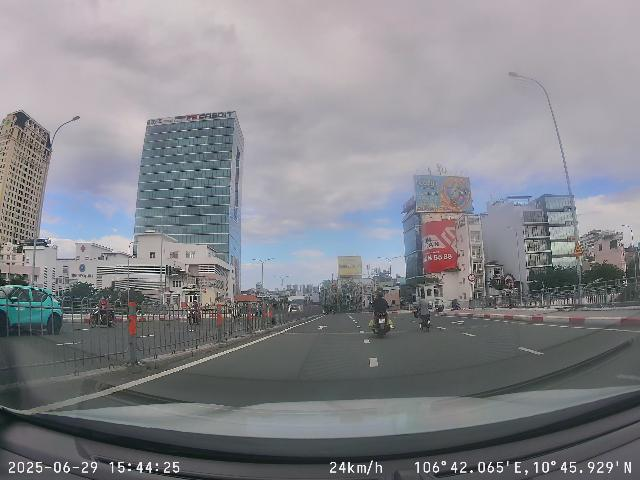245-di-cham: (574, 242, 583, 255)
